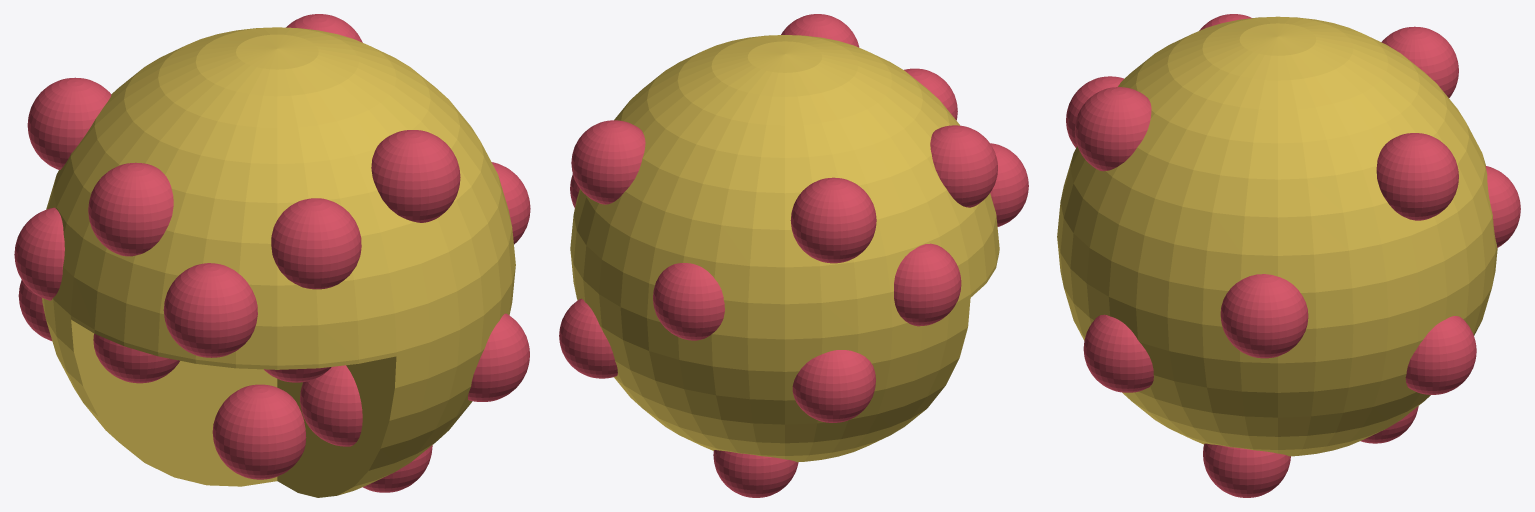
Rendered from thomson.glb.
The picture shows the model from 3 angles, left to right: view 1: azimuth 30°, elevation 25°; view 2: azimuth 150°, elevation 25°; view 3: azimuth 270°, elevation 25°; orthographic projection. The views are drawn at different scales.
Parts seen in each view (by area): view 1: Mesh_Mesh_head_geo.001_lambert2SG.001; view 2: Mesh_Mesh_head_geo.001_lambert2SG.001; view 3: Mesh_Mesh_head_geo.001_lambert2SG.001.
Boxes of the visible parts, left/top/right/bottom form: Mesh_Mesh_head_geo.001_lambert2SG.001: left=14, top=14, right=530, bottom=497; Mesh_Mesh_head_geo.001_lambert2SG.001: left=559, top=14, right=1028, bottom=497; Mesh_Mesh_head_geo.001_lambert2SG.001: left=1057, top=14, right=1520, bottom=497.
Bounding box in the file's own units: 65.69 × 61 × 61.59.
